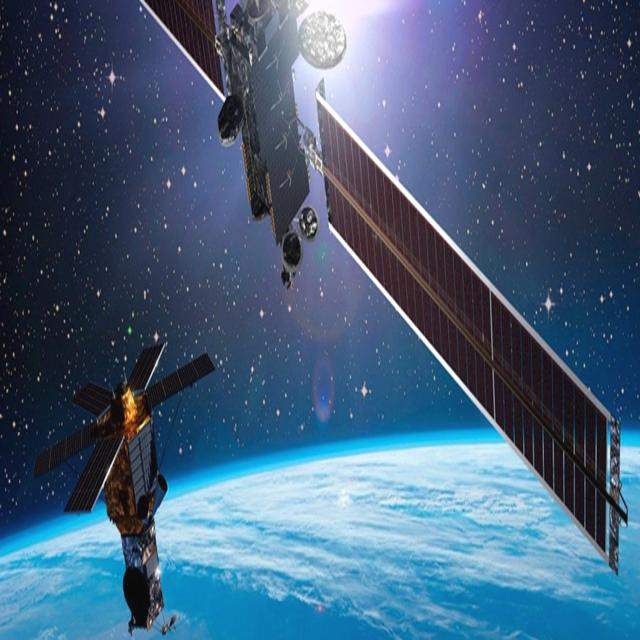satellite: (143, 5, 630, 561), (34, 328, 226, 635)
